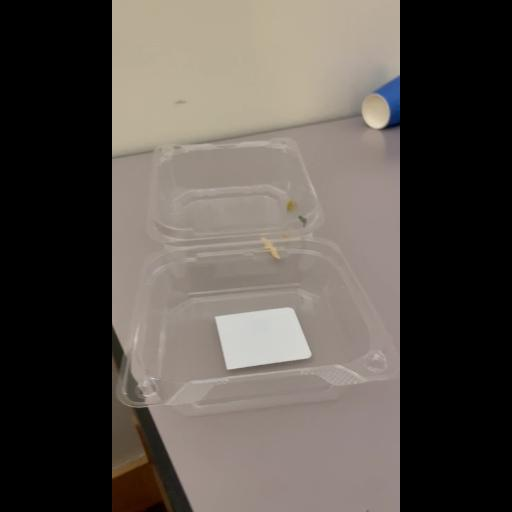small_plastic_container: (112, 130, 400, 428)
